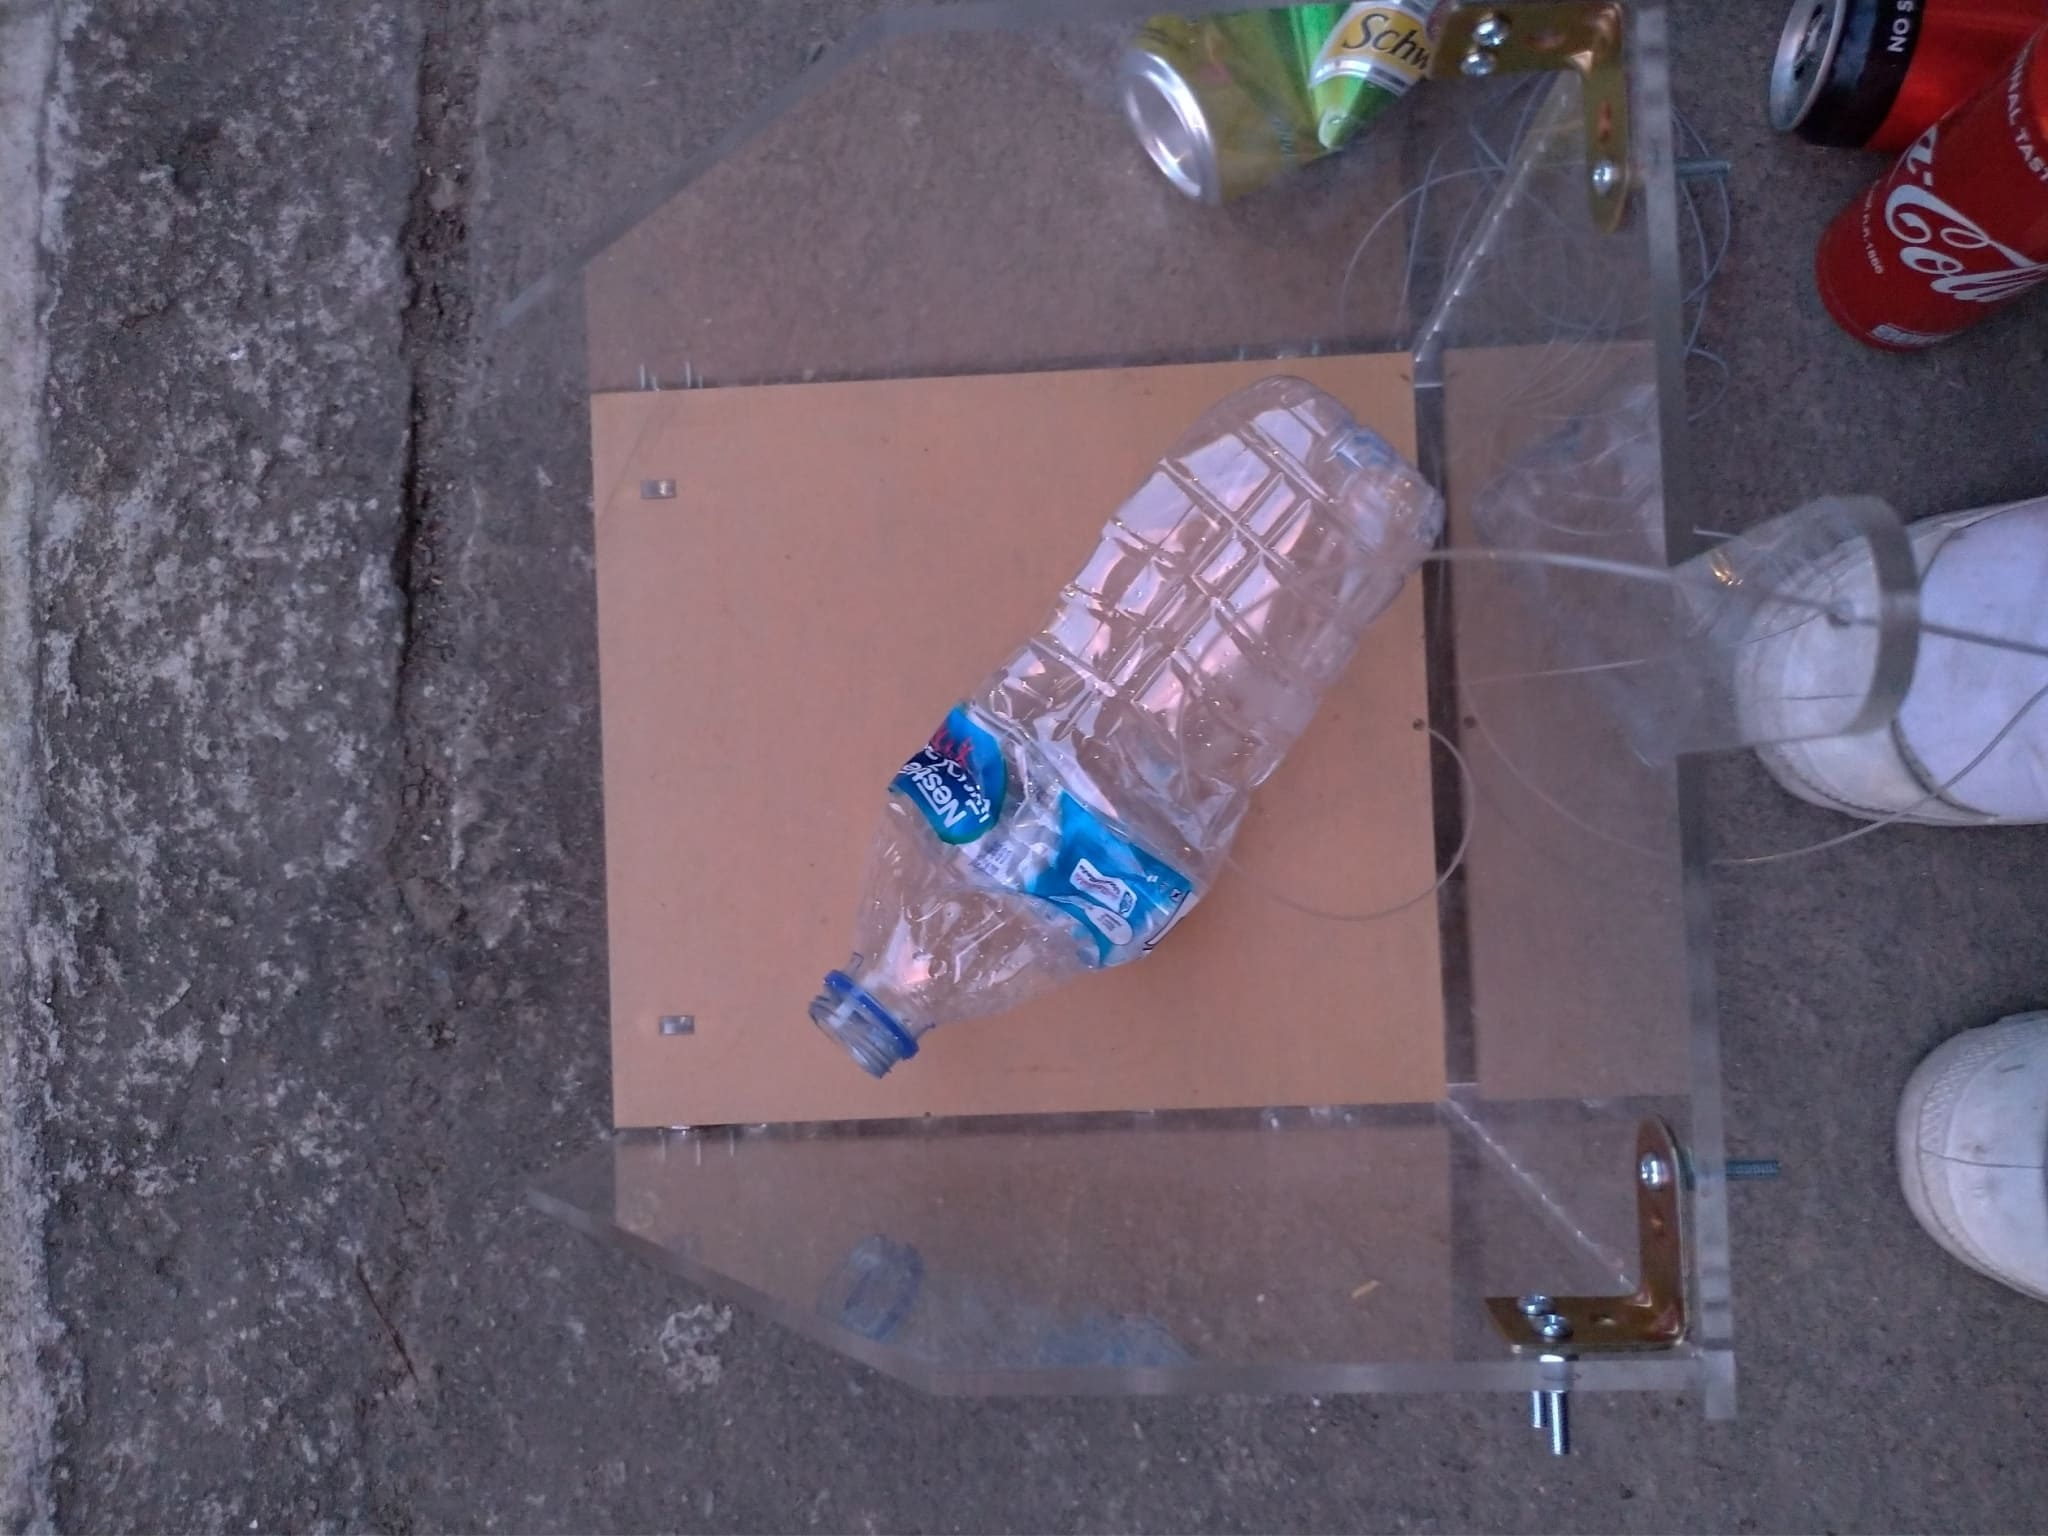AlCan: (1825, 29, 2048, 349), (1111, 5, 1451, 203), (1767, 6, 1956, 150)
PlasticBottle: (806, 379, 1450, 1092)
